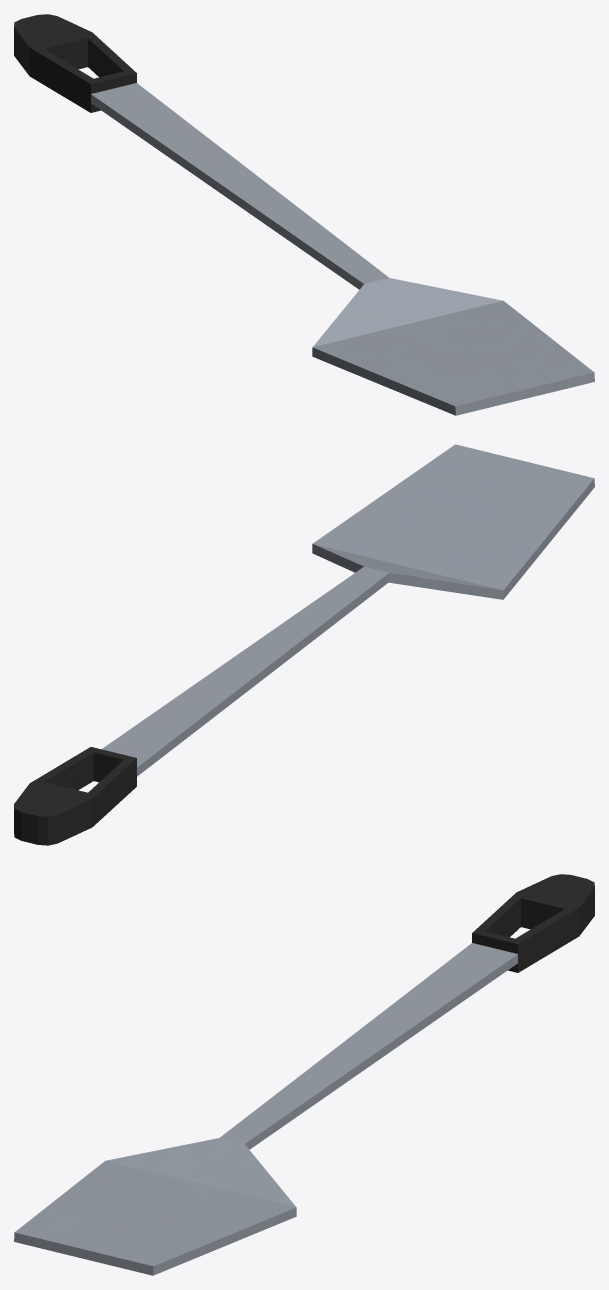
The model's file is Spatula_01.fbx.
3 views of the same model, one above another, from view 1: azimuth 30°, elevation 25°; view 2: azimuth 150°, elevation 25°; view 3: azimuth 330°, elevation 25° (orthographic).
Parts seen in each view (by area): view 1: Spatula_01; view 2: Spatula_01; view 3: Spatula_01.
Boxes of the visible parts, x1,y1,x2,y2 form: Spatula_01: (14,14,594,415); Spatula_01: (14,444,594,845); Spatula_01: (14,874,594,1275).
Bounding box in the file's own units: 0.1099 × 0.0217 × 0.494.
